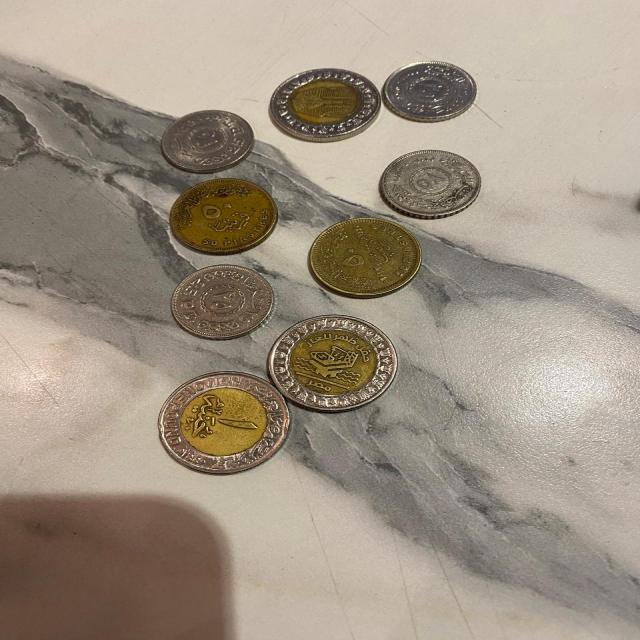Half Pound: (299, 216, 457, 303), (167, 180, 288, 259)
One Pound: (150, 372, 316, 488), (280, 309, 400, 418), (267, 68, 388, 154)
quarter pound: (154, 108, 273, 181), (369, 150, 490, 219), (168, 268, 276, 344), (382, 56, 487, 126)
